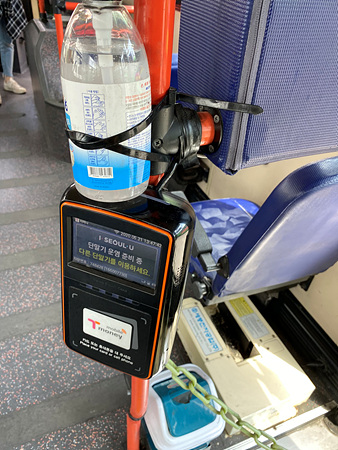terminal: (60, 183, 185, 375)
